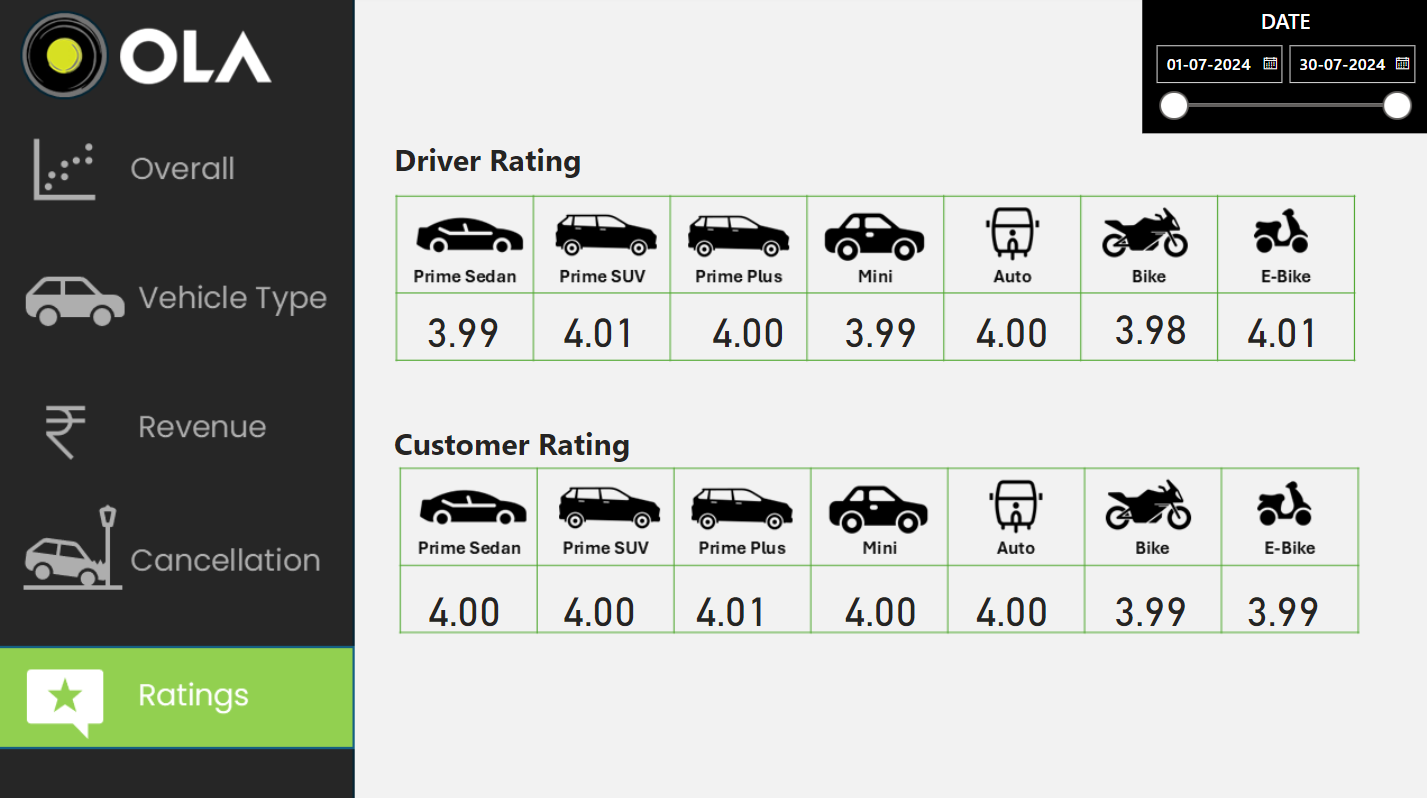

The page's visual inventory and layout, read from the dashboard file:
{"tool":"powerbi","page":{"name":"Rating","canvas":[1280,720],"ordinal":4},"visuals":[{"type":"actionButton","box":[0,220.8,324.5,95.3],"z":0},{"type":"actionButton","box":[0,336.6,324.5,95.3],"z":1000},{"type":"actionButton","box":[0,451.2,324.5,95.3],"z":2000},{"type":"actionButton","box":[1.2,580.3,324.5,95.3],"z":3000},{"type":"actionButton","box":[0,103.8,324.5,95.3],"z":4000},{"type":"card","fields":{"Values":["Avg(July.Driver_Ratings)"]},"box":[354,269,133.1,56.3],"z":5000},{"type":"card","fields":{"Values":["Avg(July.Driver_Ratings)"]},"box":[474.8,269,133.1,56.3],"z":6000},{"type":"card","fields":{"Values":["Avg(July.Driver_Ratings)"]},"box":[607.9,269,133.1,56.3],"z":7000},{"type":"card","fields":{"Values":["Avg(July.Driver_Ratings)"]},"box":[725.9,269,133.1,56.3],"z":8000},{"type":"card","fields":{"Values":["Avg(July.Driver_Ratings)"]},"box":[842.5,269,133.1,56.3],"z":9000},{"type":"card","fields":{"Values":["Avg(July.Driver_Ratings)"]},"box":[966,267.6,133.1,56.3],"z":10000},{"type":"card","fields":{"Values":["Avg(July.Driver_Ratings)"]},"box":[1084.1,269,133.1,56.3],"z":11000},{"type":"textbox","box":[354,123.5,295,54.9],"z":12000},{"type":"textbox","box":[354,376,295,54.9],"z":13000},{"type":"card","fields":{"Values":["Avg(July.Customer_Rating)"]},"box":[355.4,517.3,133.1,56.3],"z":14000},{"type":"card","fields":{"Values":["Avg(July.Customer_Rating)"]},"box":[474.8,517.3,133.1,56.3],"z":15000},{"type":"card","fields":{"Values":["Avg(July.Customer_Rating)"]},"box":[592.8,517.3,133.1,56.3],"z":16000},{"type":"card","fields":{"Values":["Avg(July.Customer_Rating)"]},"box":[725.9,517.3,133.1,56.3],"z":17000},{"type":"card","fields":{"Values":["Avg(July.Customer_Rating)"]},"box":[842.5,517.3,133.1,56.3],"z":18000},{"type":"card","fields":{"Values":["Avg(July.Customer_Rating)"]},"box":[966,517.3,133.1,56.3],"z":19000},{"type":"card","fields":{"Values":["Avg(July.Customer_Rating)"]},"box":[1084.1,517.3,133.1,56.3],"z":20000},{"type":"slicer","title":"DATE","fields":{"Values":["July.Date"]},"box":[1025,0,255.2,123.5],"z":21000}]}

Visuals, with their boxes in screenshot pixels (x1, y1, x2, y2), scaled from the page's 1280x720 canvas onto the 1427x798 screenshot:
actionButton: <bbox>0, 245, 362, 350</bbox>
actionButton: <bbox>0, 373, 362, 479</bbox>
actionButton: <bbox>0, 500, 362, 606</bbox>
actionButton: <bbox>1, 643, 363, 749</bbox>
actionButton: <bbox>0, 115, 362, 221</bbox>
card - Avg(July.Driver_Ratings): <bbox>395, 298, 543, 361</bbox>
card - Avg(July.Driver_Ratings): <bbox>529, 298, 678, 361</bbox>
card - Avg(July.Driver_Ratings): <bbox>678, 298, 826, 361</bbox>
card - Avg(July.Driver_Ratings): <bbox>809, 298, 958, 361</bbox>
card - Avg(July.Driver_Ratings): <bbox>939, 298, 1088, 361</bbox>
card - Avg(July.Driver_Ratings): <bbox>1077, 297, 1225, 359</bbox>
card - Avg(July.Driver_Ratings): <bbox>1209, 298, 1357, 361</bbox>
textbox: <bbox>395, 137, 724, 198</bbox>
textbox: <bbox>395, 417, 724, 478</bbox>
card - Avg(July.Customer_Rating): <bbox>396, 573, 545, 636</bbox>
card - Avg(July.Customer_Rating): <bbox>529, 573, 678, 636</bbox>
card - Avg(July.Customer_Rating): <bbox>661, 573, 809, 636</bbox>
card - Avg(July.Customer_Rating): <bbox>809, 573, 958, 636</bbox>
card - Avg(July.Customer_Rating): <bbox>939, 573, 1088, 636</bbox>
card - Avg(July.Customer_Rating): <bbox>1077, 573, 1225, 636</bbox>
card - Avg(July.Customer_Rating): <bbox>1209, 573, 1357, 636</bbox>
"DATE" slicer: <bbox>1143, 0, 1426, 137</bbox>
